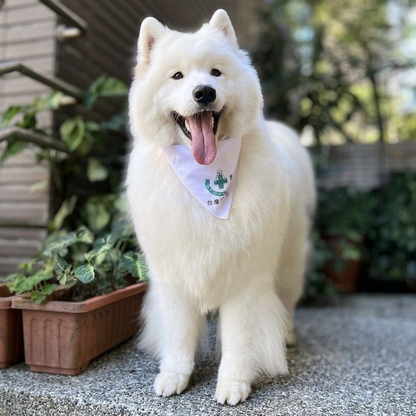samoyed: (115, 4, 325, 410)
